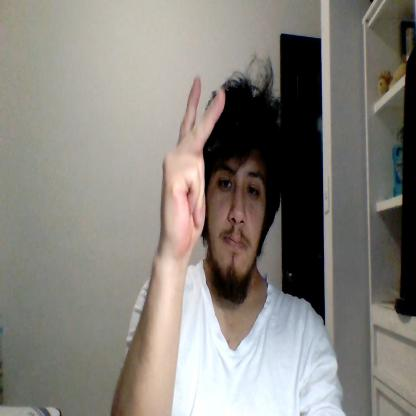P: (159, 78, 225, 257)
